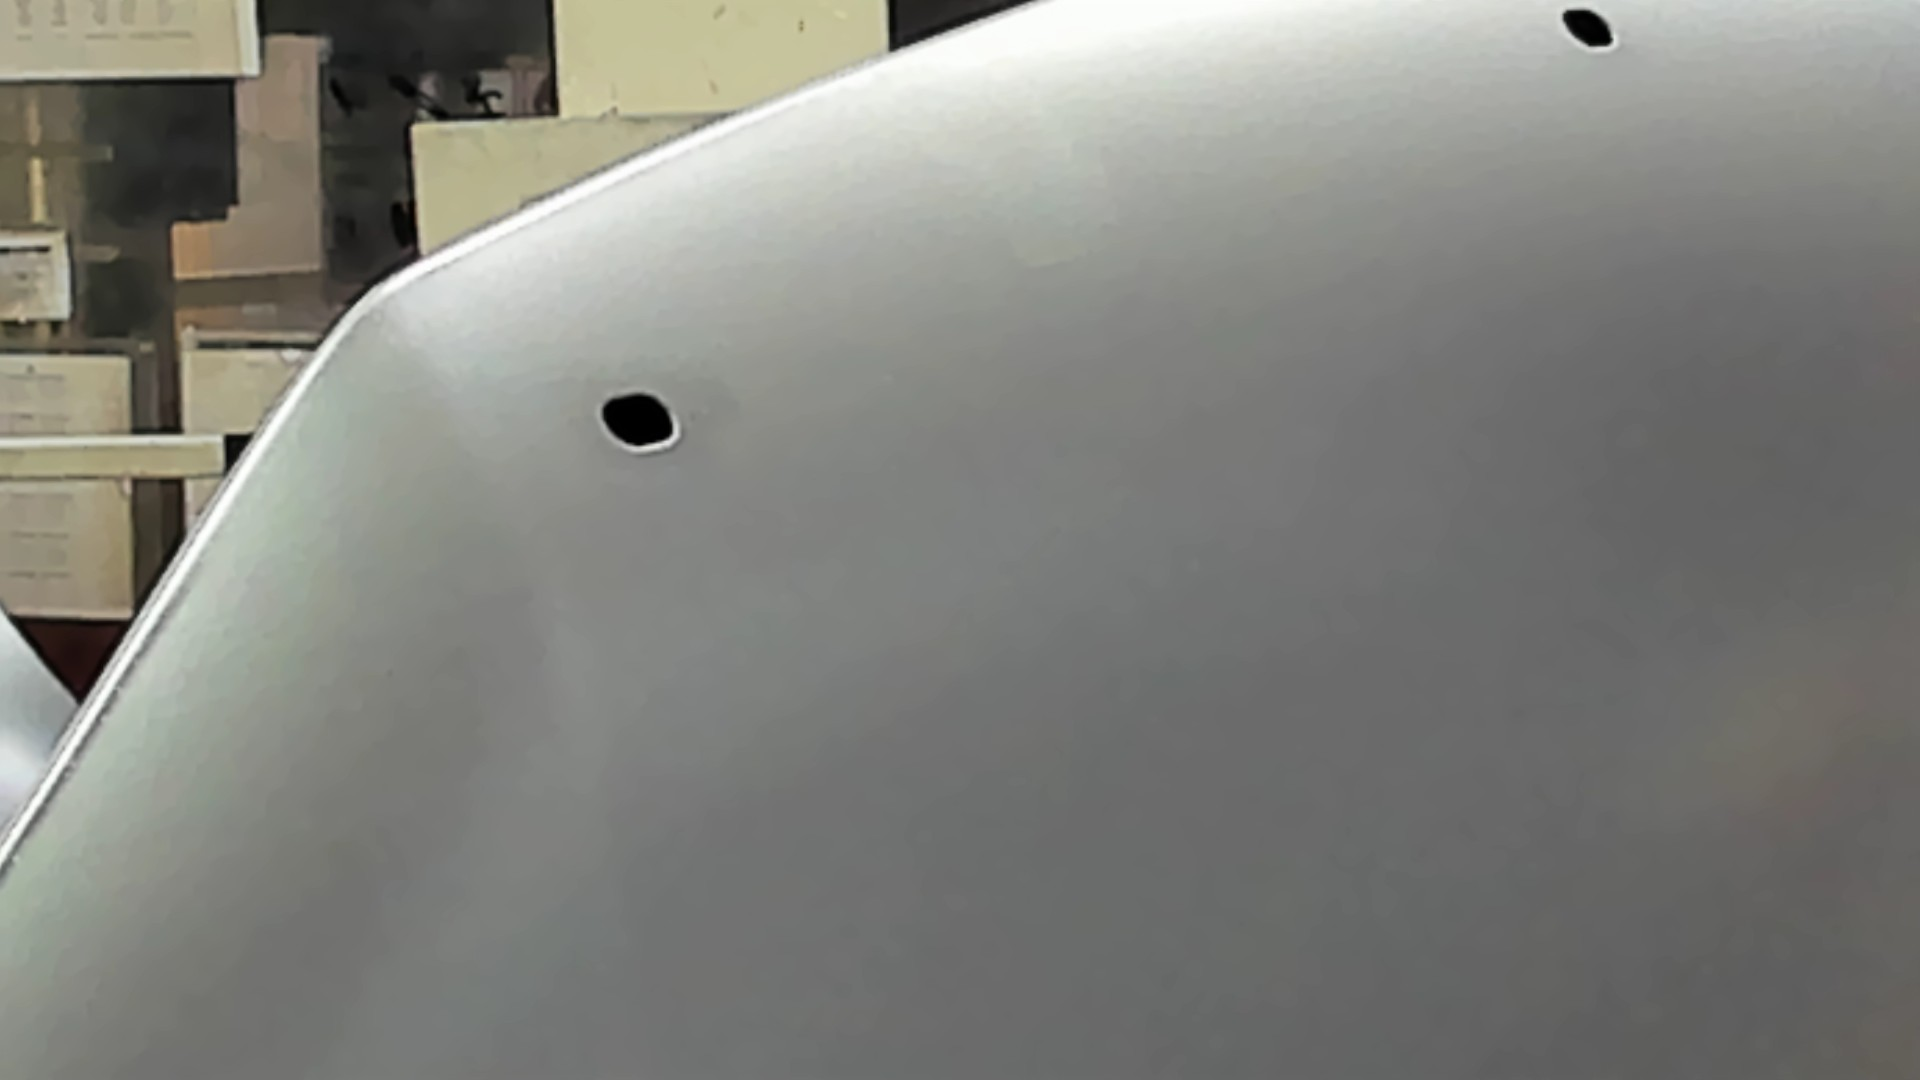amorfo: (593, 385, 688, 455), (1556, 1, 1619, 59)
